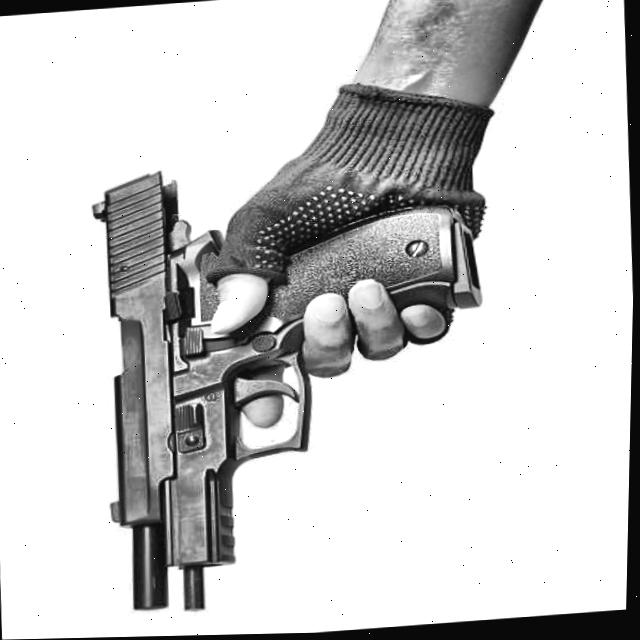pistol: (84, 159, 511, 619)
